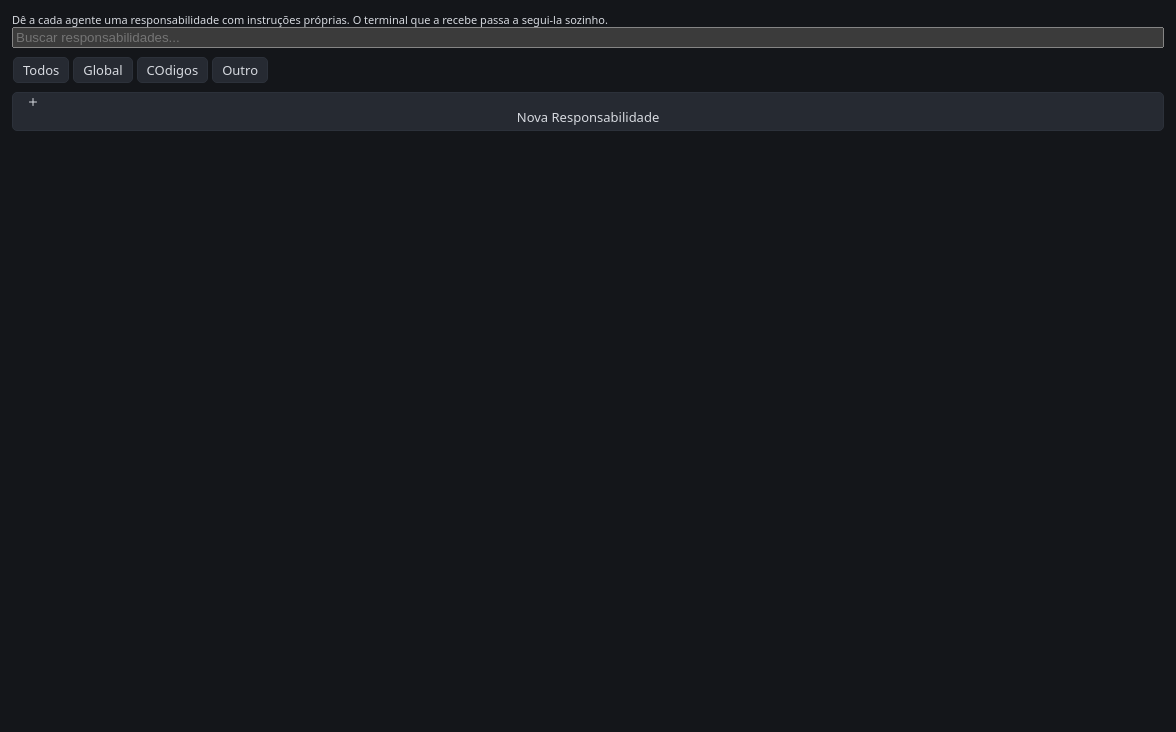
criar abre o editor dentro da aba no escopo da pílula e grava
Later steps or results of the test are not shown.
Click the radio button labelled "COdigos" at (172, 70), box [137,57,208,83]
Click the button "Nova Responsabilidade" at (588, 112), box [12,92,1164,131]
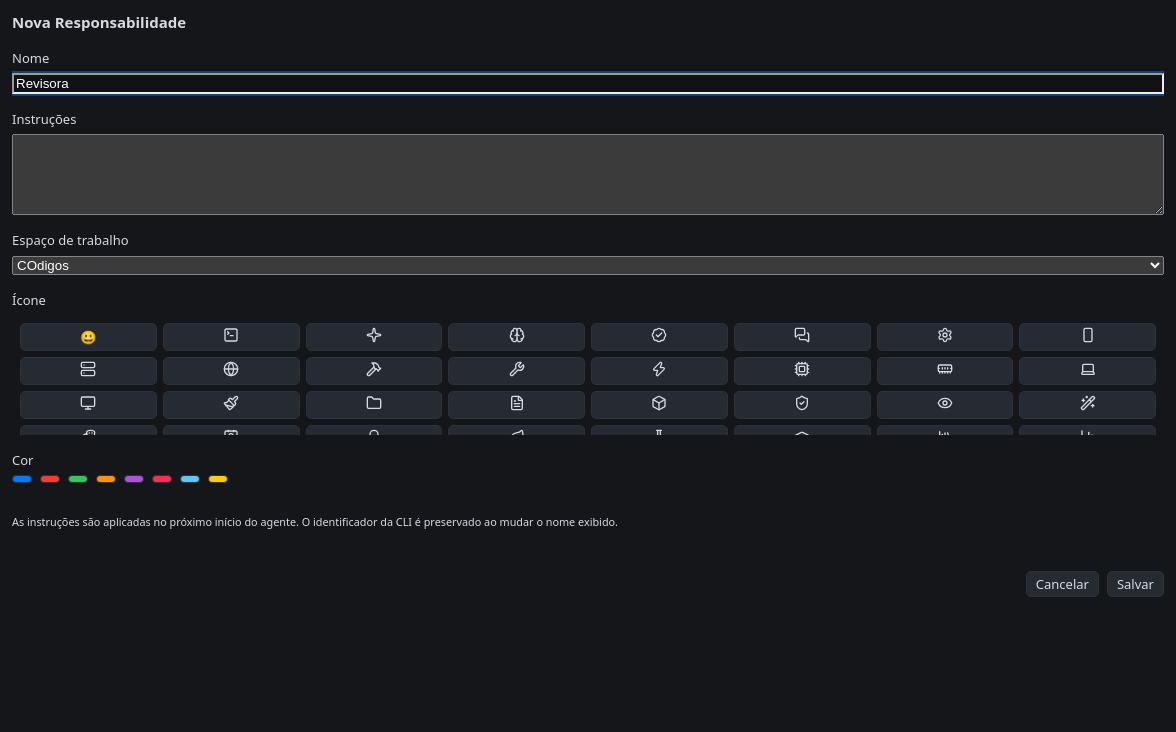
Check: the form is shown
Check: the button with class "library-new" is gone
Check: the dropdown labelled "Espaço de trabalho" shows "COdigos", box [12,256,1164,275]
